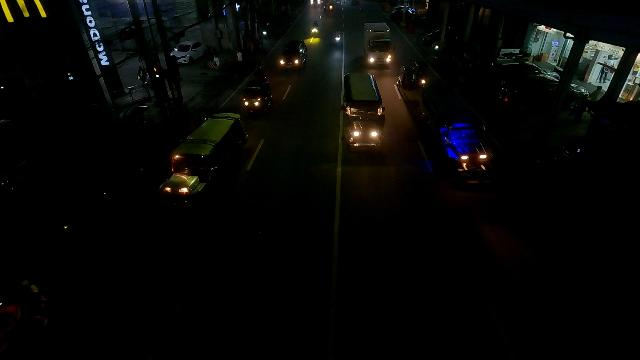car: (280, 40, 307, 68)
jeepney: (160, 112, 248, 201), (421, 85, 493, 172), (336, 73, 387, 152)
motorcycle: (241, 64, 275, 116), (396, 60, 429, 101), (309, 21, 320, 38), (333, 28, 342, 43)
truck: (364, 21, 393, 64)
